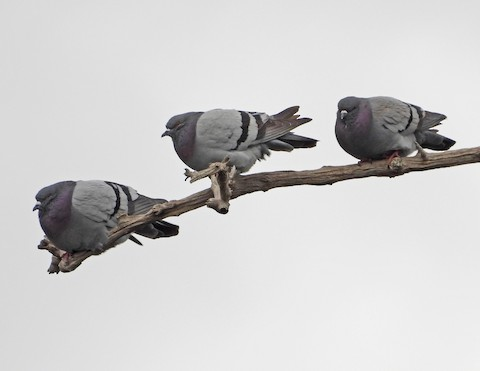pigeon: (155, 103, 322, 187), (32, 177, 183, 256), (335, 92, 458, 168)
